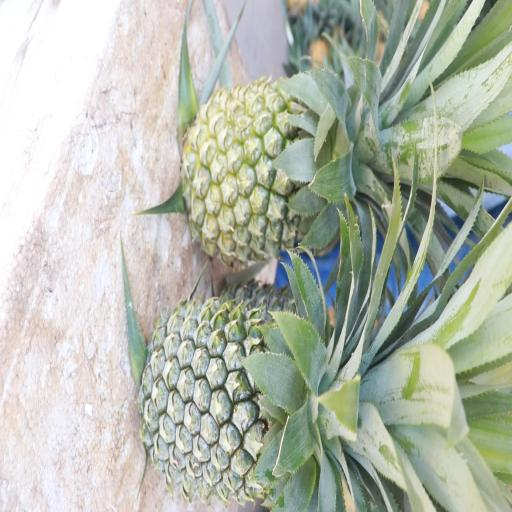Pineapple - v8 v1: (186, 72, 388, 256)
